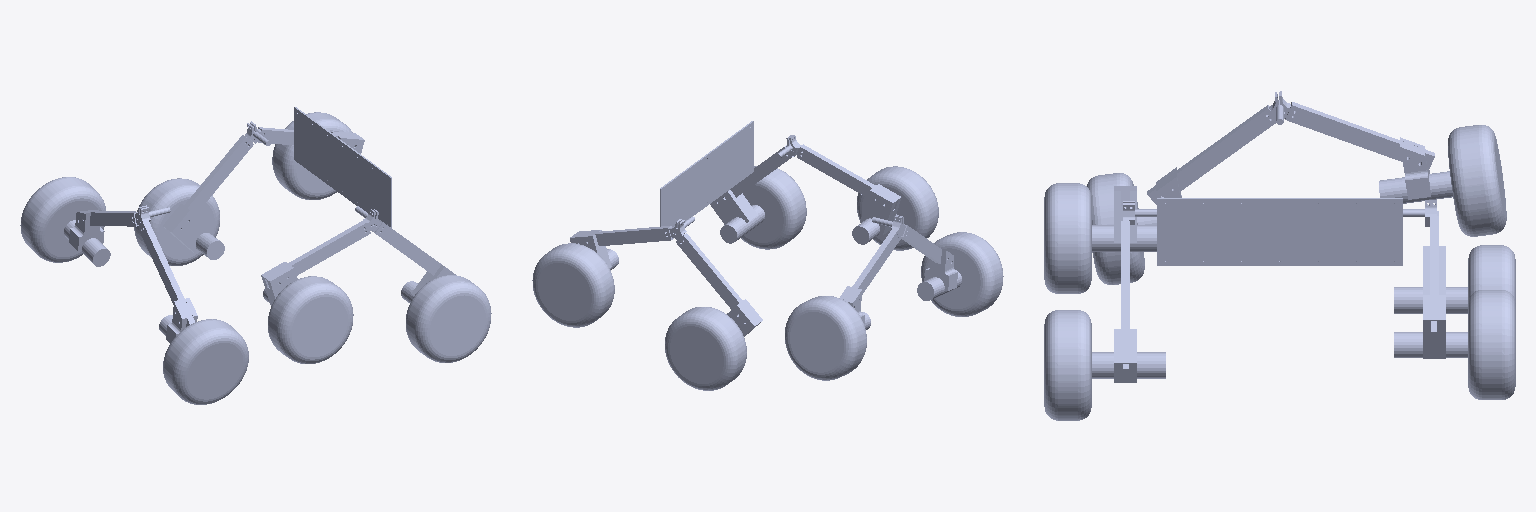
robot.urdf — rover_urdf:
<?xml version="1.0" encoding="utf-8"?>
<!-- This URDF was automatically created by SolidWorks to URDF Exporter! Originally created by [author] ([email redacted]) 
     Commit Version: 1.6.0-4-g7f85cfe  Build Version: 1.6.7995.38578
     For more information, please see http://wiki.ros.org/sw_urdf_exporter -->
<robot
  name="rover_urdf">
  <link
    name="base_link">
    <inertial>
      <origin
        xyz="0.281480000000005 -9.85322934354826E-16 -0.0750000000000002"
        rpy="0 0 0" />
      <mass
        value="0.422056388303514" />
      <inertia
        ixx="0.0107034388160777"
        ixy="-5.49167690025689E-18"
        ixz="-5.48031539083111E-19"
        iyy="0.00090036321463201"
        iyz="3.63602359362936E-19"
        izz="0.0098048341697303" />
    </inertial>
    <visual>
      <origin
        xyz="0 0 0"
        rpy="0 0 0" />
      <geometry>
        <mesh
          filename="package://rover_urdf/meshes/base_link.STL" />
      </geometry>
      <material
        name="">
        <color
          rgba="0.792156862745098 0.819607843137255 0.933333333333333 1" />
      </material>
    </visual>
    <collision>
      <origin
        xyz="0 0 0"
        rpy="0 0 0" />
      <geometry>
        <mesh
          filename="package://rover_urdf/meshes/base_link.STL" />
      </geometry>
    </collision>
  </link>
  <link
    name="chassis_link">
    <inertial>
      <origin
        xyz="-0.00699772914672339 -0.000493988226808267 -0.0760612416617474"
        rpy="0 0 0" />
      <mass
        value="6.00267889513792" />
      <inertia
        ixx="0.083640189086461"
        ixy="9.73287606877216E-08"
        ixz="-2.81094847222989E-08"
        iyy="0.0834818888944717"
        iyz="-2.26303252326449E-05"
        izz="0.156921606709253" />
    </inertial>
    <visual>
      <origin
        xyz="0 0 0"
        rpy="0 0 0" />
      <geometry>
        <mesh
          filename="package://rover_urdf/meshes/chassis_link.STL" />
      </geometry>
      <material
        name="">
        <color
          rgba="0.792156862745098 0.819607843137255 0.933333333333333 1" />
      </material>
    </visual>
    <collision>
      <origin
        xyz="0 0 0"
        rpy="0 0 0" />
      <geometry>
        <mesh
          filename="package://rover_urdf/meshes/chassis_link.STL" />
      </geometry>
    </collision>
  </link>
  <joint
    name="chassis_joint"
    type="fixed">
    <origin
      xyz="0 0 0"
      rpy="0 0 0" />
    <parent
      link="base_link" />
    <child
      link="chassis_link" />
    <axis
      xyz="0 0 0" />
  </joint>
  <link
    name="back_bogie_link">
    <inertial>
      <origin
        xyz="-7.25827789399558E-08 0.174260110659829 -0.00696236307424686"
        rpy="0 0 0" />
      <mass
        value="1.93502364267459" />
      <inertia
        ixx="0.00229542248691092"
        ixy="-3.03037924544473E-09"
        ixz="7.58017790753532E-19"
        iyy="0.00623201882648166"
        iyz="-1.25455581601917E-19"
        izz="0.00766650770807597" />
    </inertial>
    <visual>
      <origin
        xyz="0 0 0"
        rpy="0 0 0" />
      <geometry>
        <mesh
          filename="package://rover_urdf/meshes/back_bogie_link.STL" />
      </geometry>
      <material
        name="">
        <color
          rgba="0.792156862745098 0.819607843137255 0.933333333333333 1" />
      </material>
    </visual>
    <collision>
      <origin
        xyz="0 0 0"
        rpy="0 0 0" />
      <geometry>
        <mesh
          filename="package://rover_urdf/meshes/back_bogie_link.STL" />
      </geometry>
    </collision>
  </link>
  <joint
    name="back_bogie_joint"
    type="revolute">
    <origin
      xyz="-0.3638 -4.51E-05 -0.070631"
      rpy="-1.5708 -0.14612 1.5708" />
    <parent
      link="chassis_link" />
    <child
      link="back_bogie_link" />
    <axis
      xyz="0 0 1" />
    <limit
      lower="-1.4"
      upper="1.4"
      effort="5"
      velocity="5" />
  </joint>
  <link
    name="back_left_wheel_link">
    <inertial>
      <origin
        xyz="-2.77555756156289E-17 -5.55111512312578E-17 0.0508"
        rpy="0 0 0" />
      <mass
        value="4.27542162637791" />
      <inertia
        ixx="0.0178347294732951"
        ixy="-1.08937077959432E-19"
        ixz="7.62806346074387E-19"
        iyy="0.0178347294732951"
        iyz="0"
        izz="0.0289167430570026" />
    </inertial>
    <visual>
      <origin
        xyz="0 0 0"
        rpy="0 0 0" />
      <geometry>
        <mesh
          filename="package://rover_urdf/meshes/back_left_wheel_link.STL" />
      </geometry>
      <material
        name="">
        <color
          rgba="0.792156862745098 0.819607843137255 0.933333333333333 1" />
      </material>
    </visual>
    <collision>
      <origin
        xyz="0 0 0"
        rpy="0 0 0" />
      <geometry>
        <mesh
          filename="package://rover_urdf/meshes/back_left_wheel_link.STL" />
      </geometry>
    </collision>
  </link>
  <joint
    name="back_left_wheel_joint"
    type="continuous">
    <origin
      xyz="0.34327 0.24109 -0.00635"
      rpy="0 1.5708 0" />
    <parent
      link="back_bogie_link" />
    <child
      link="back_left_wheel_link" />
    <axis
      xyz="0 0 1" />
  </joint>
  <link
    name="back_right_wheel_link">
    <inertial>
      <origin
        xyz="0 2.77555756156289E-17 0.0508"
        rpy="0 0 0" />
      <mass
        value="4.27542162637791" />
      <inertia
        ixx="0.0178347294732951"
        ixy="2.28071735391806E-20"
        ixz="6.12456854997538E-19"
        iyy="0.0178347294732951"
        iyz="1.73472347597681E-18"
        izz="0.0289167430570026" />
    </inertial>
    <visual>
      <origin
        xyz="0 0 0"
        rpy="0 0 0" />
      <geometry>
        <mesh
          filename="package://rover_urdf/meshes/back_right_wheel_link.STL" />
      </geometry>
      <material
        name="">
        <color
          rgba="0.792156862745098 0.819607843137255 0.933333333333333 1" />
      </material>
    </visual>
    <collision>
      <origin
        xyz="0 0 0"
        rpy="0 0 0" />
      <geometry>
        <mesh
          filename="package://rover_urdf/meshes/back_right_wheel_link.STL" />
      </geometry>
    </collision>
  </link>
  <joint
    name="back_right_wheel_joint"
    type="continuous">
    <origin
      xyz="-0.34327 0.24109 -0.00635"
      rpy="3.1416 1.5708 0" />
    <parent
      link="back_bogie_link" />
    <child
      link="back_right_wheel_link" />
    <axis
      xyz="0 0 1" />
  </joint>
  <link
    name="left_bogie_link">
    <inertial>
      <origin
        xyz="-1.54984377143119E-05 0.182050794641678 -0.00837596251404105"
        rpy="0 0 0" />
      <mass
        value="3.24500143198311" />
      <inertia
        ixx="0.005056643655294"
        ixy="-8.9378372078344E-07"
        ixz="1.10820141993538E-18"
        iyy="0.00747448697437576"
        iyz="1.67485869207298E-19"
        izz="0.0081282264814984" />
    </inertial>
    <visual>
      <origin
        xyz="0 0 0"
        rpy="0 0 0" />
      <geometry>
        <mesh
          filename="package://rover_urdf/meshes/left_bogie_link.STL" />
      </geometry>
      <material
        name="">
        <color
          rgba="0.792156862745098 0.819607843137255 0.933333333333333 1" />
      </material>
    </visual>
    <collision>
      <origin
        xyz="0 0 0"
        rpy="0 0 0" />
      <geometry>
        <mesh
          filename="package://rover_urdf/meshes/left_bogie_link.STL" />
      </geometry>
    </collision>
  </link>
  <joint
    name="left_bogie_joint"
    type="revolute">
    <origin
      xyz="0.18553 0.33879 -0.0755"
      rpy="-1.5708 -0.22079 0" />
    <parent
      link="chassis_link" />
    <child
      link="left_bogie_link" />
    <axis
      xyz="0 0 1" />
    <limit
      lower="-1.5"
      upper="1.5"
      effort="5"
      velocity="5" />
  </joint>
  <link
    name="left_front_wheel_link">
    <inertial>
      <origin
        xyz="0 1.3878E-17 0.0508"
        rpy="0 0 0" />
      <mass
        value="4.2754" />
      <inertia
        ixx="0.017835"
        ixy="-4.5898E-19"
        ixz="-1.231E-17"
        iyy="0.017835"
        iyz="5.6373E-19"
        izz="0.028917" />
    </inertial>
    <visual>
      <origin
        xyz="0 0 0"
        rpy="0 0 0" />
      <geometry>
        <mesh
          filename="package://rover_urdf/meshes/left_front_wheel_link.STL" />
      </geometry>
      <material
        name="">
        <color
          rgba="0.79216 0.81961 0.93333 1" />
      </material>
    </visual>
    <collision>
      <origin
        xyz="0 0 0"
        rpy="0 0 0" />
      <geometry>
        <mesh
          filename="package://rover_urdf/meshes/left_front_wheel_link.STL" />
      </geometry>
    </collision>
  </link>
  <joint
    name="left_front_wheel_joint"
    type="continuous">
    <origin
      xyz="0.22348 0.24192 0.06705"
      rpy="0 0 0.22079" />
    <parent
      link="left_bogie_link" />
    <child
      link="left_front_wheel_link" />
    <axis
      xyz="0 0 1" />
    <limit
      lower="-1.5"
      upper="1.5"
      effort="5"
      velocity="5" />
  </joint>
  <link
    name="left_mid_wheel_link">
    <inertial>
      <origin
        xyz="-2.77555756156289E-17 0 0.0508"
        rpy="0 0 0" />
      <mass
        value="4.27542162637791" />
      <inertia
        ixx="0.0178347294732951"
        ixy="-4.00883753276516E-19"
        ixz="-8.20366047356053E-18"
        iyy="0.0178347294732951"
        iyz="1.56646894184784E-18"
        izz="0.0289167430570026" />
    </inertial>
    <visual>
      <origin
        xyz="0 0 0"
        rpy="0 0 0" />
      <geometry>
        <mesh
          filename="package://rover_urdf/meshes/left_mid_wheel_link.STL" />
      </geometry>
      <material
        name="">
        <color
          rgba="0.792156862745098 0.819607843137255 0.933333333333333 1" />
      </material>
    </visual>
    <collision>
      <origin
        xyz="0 0 0"
        rpy="0 0 0" />
      <geometry>
        <mesh
          filename="package://rover_urdf/meshes/left_mid_wheel_link.STL" />
      </geometry>
    </collision>
  </link>
  <joint
    name="left_mid_wheel_joint"
    type="continuous">
    <origin
      xyz="-0.22348 0.24192 0.06705"
      rpy="0 0 0.22079" />
    <parent
      link="left_bogie_link" />
    <child
      link="left_mid_wheel_link" />
    <axis
      xyz="0 0 1" />
    <limit
      lower="-1.5"
      upper="1"
      effort="5"
      velocity="5" />
  </joint>
  <link
    name="right_bogie_link">
    <inertial>
      <origin
        xyz="-1.54984377143119E-05 0.182050794641678 -0.0083759625140411"
        rpy="0 0 0" />
      <mass
        value="3.2450014319831" />
      <inertia
        ixx="0.005056643655294"
        ixy="-8.93783720780405E-07"
        ixz="1.14069009289248E-18"
        iyy="0.00747448697437575"
        iyz="7.82677189295528E-20"
        izz="0.00812822648149838" />
    </inertial>
    <visual>
      <origin
        xyz="0 0 0"
        rpy="0 0 0" />
      <geometry>
        <mesh
          filename="package://rover_urdf/meshes/right_bogie_link.STL" />
      </geometry>
      <material
        name="">
        <color
          rgba="0.792156862745098 0.819607843137255 0.933333333333333 1" />
      </material>
    </visual>
    <collision>
      <origin
        xyz="0 0 0"
        rpy="0 0 0" />
      <geometry>
        <mesh
          filename="package://rover_urdf/meshes/right_bogie_link.STL" />
      </geometry>
    </collision>
  </link>
  <joint
    name="right_bogie_joint"
    type="revolute">
    <origin
      xyz="0.18544 -0.33878 -0.07549"
      rpy="-1.5708 -0.22079 3.1416" />
    <parent
      link="chassis_link" />
    <child
      link="right_bogie_link" />
    <axis
      xyz="0 0 1" />
    <limit
      lower="-1.5"
      upper="1.5"
      effort="5"
      velocity="5" />
  </joint>
  <link
    name="right_front_wheel_link">
    <inertial>
      <origin
        xyz="1.11022302462516E-16 0 0.0508000000000001"
        rpy="0 0 0" />
      <mass
        value="4.27542162637791" />
      <inertia
        ixx="0.0178347294732951"
        ixy="1.7347234759768E-18"
        ixz="7.43332005281035E-18"
        iyy="0.0178347294732951"
        iyz="4.51025868803808E-18"
        izz="0.0289167430570026" />
    </inertial>
    <visual>
      <origin
        xyz="0 0 0"
        rpy="0 0 0" />
      <geometry>
        <mesh
          filename="package://rover_urdf/meshes/right_front_wheel_link.STL" />
      </geometry>
      <material
        name="">
        <color
          rgba="0.792156862745098 0.819607843137255 0.933333333333333 1" />
      </material>
    </visual>
    <collision>
      <origin
        xyz="0 0 0"
        rpy="0 0 0" />
      <geometry>
        <mesh
          filename="package://rover_urdf/meshes/right_front_wheel_link.STL" />
      </geometry>
    </collision>
  </link>
  <joint
    name="right_front_wheel_joint"
    type="continuous">
    <origin
      xyz="-0.22348 0.24192 0.06705"
      rpy="0 0 2.618" />
    <parent
      link="right_bogie_link" />
    <child
      link="right_front_wheel_link" />
    <axis
      xyz="0 0 1" />
  </joint>
  <link
    name="right_mid_wheel_link">
    <inertial>
      <origin
        xyz="4.5102810375397E-17 -2.77555756156289E-17 0.0508000000000002"
        rpy="0 0 0" />
      <mass
        value="4.27542162637791" />
      <inertia
        ixx="0.0178347294732951"
        ixy="-2.16840434497102E-18"
        ixz="1.04477411869742E-17"
        iyy="0.0178347294732951"
        iyz="-3.12590163345014E-18"
        izz="0.0289167430570026" />
    </inertial>
    <visual>
      <origin
        xyz="0 0 0"
        rpy="0 0 0" />
      <geometry>
        <mesh
          filename="package://rover_urdf/meshes/right_mid_wheel_link.STL" />
      </geometry>
      <material
        name="">
        <color
          rgba="0.792156862745098 0.819607843137255 0.933333333333333 1" />
      </material>
    </visual>
    <collision>
      <origin
        xyz="0 0 0"
        rpy="0 0 0" />
      <geometry>
        <mesh
          filename="package://rover_urdf/meshes/right_mid_wheel_link.STL" />
      </geometry>
    </collision>
  </link>
  <joint
    name="right_mid_wheel_joint"
    type="continuous">
    <origin
      xyz="0.22348 0.24192 0.06705"
      rpy="0 0 -2.618" />
    <parent
      link="right_bogie_link" />
    <child
      link="right_mid_wheel_link" />
    <axis
      xyz="0 0 1" />
  </joint>
</robot>

--- Render facts (derived) ---
Views: 3 orthographic renders of the robot side by side, from view 1: azimuth 30°, elevation 25°; view 2: azimuth 150°, elevation 25°; view 3: azimuth 270°, elevation 25°.
Robot: rover_urdf — 11 links, 10 joints (3 revolute, 6 continuous, 1 fixed); root link base_link; default pose: every joint at zero.
Visible links, largest first — view 1: right_mid_wheel_link, right_front_wheel_link, back_right_wheel_link, base_link, back_bogie_link, back_left_wheel_link, left_bogie_link, right_bogie_link, left_mid_wheel_link, left_front_wheel_link; view 2: right_bogie_link, back_left_wheel_link, left_front_wheel_link, left_mid_wheel_link, base_link, left_bogie_link, back_right_wheel_link, back_bogie_link, right_front_wheel_link, right_mid_wheel_link; view 3: base_link, back_bogie_link, right_bogie_link, left_bogie_link, back_left_wheel_link, right_mid_wheel_link, right_front_wheel_link, left_front_wheel_link, back_right_wheel_link, left_mid_wheel_link.
Boxes of the visible links, bbox=[...] form: right_mid_wheel_link: bbox=[268, 276, 353, 363]; right_front_wheel_link: bbox=[406, 275, 491, 362]; back_right_wheel_link: bbox=[163, 319, 248, 404]; base_link: bbox=[294, 107, 391, 227]; back_bogie_link: bbox=[64, 205, 197, 342]; back_left_wheel_link: bbox=[20, 177, 105, 262]; left_bogie_link: bbox=[163, 121, 364, 259]; right_bogie_link: bbox=[261, 206, 455, 305]; left_mid_wheel_link: bbox=[134, 178, 219, 265]; left_front_wheel_link: bbox=[272, 112, 352, 199]; right_bogie_link: bbox=[710, 135, 901, 244]; back_left_wheel_link: bbox=[785, 296, 866, 380]; left_front_wheel_link: bbox=[532, 243, 614, 327]; left_mid_wheel_link: bbox=[665, 307, 746, 390]; base_link: bbox=[660, 121, 753, 226]; left_bogie_link: bbox=[570, 216, 762, 336]; back_right_wheel_link: bbox=[921, 232, 1003, 316]; back_bogie_link: bbox=[840, 215, 961, 329]; right_front_wheel_link: bbox=[741, 166, 806, 249]; right_mid_wheel_link: bbox=[857, 166, 938, 250]; base_link: bbox=[1157, 198, 1402, 265]; back_bogie_link: bbox=[1137, 91, 1452, 224]; right_bogie_link: bbox=[1092, 186, 1165, 382]; left_bogie_link: bbox=[1394, 200, 1467, 358]; back_left_wheel_link: bbox=[1448, 125, 1506, 236]; right_mid_wheel_link: bbox=[1044, 183, 1091, 293]; right_front_wheel_link: bbox=[1044, 310, 1091, 420]; left_front_wheel_link: bbox=[1468, 290, 1515, 399]; back_right_wheel_link: bbox=[1087, 173, 1144, 284]; left_mid_wheel_link: bbox=[1468, 245, 1515, 302].
Bounding box of the posed robot: 1.05 × 1.01 × 0.4928 m (x, y, z).
Meshes: 11 distinct files referenced, 10 mesh visuals loaded (10 binary STL); not drawn: 1 (reference not matched to a file when rendering).